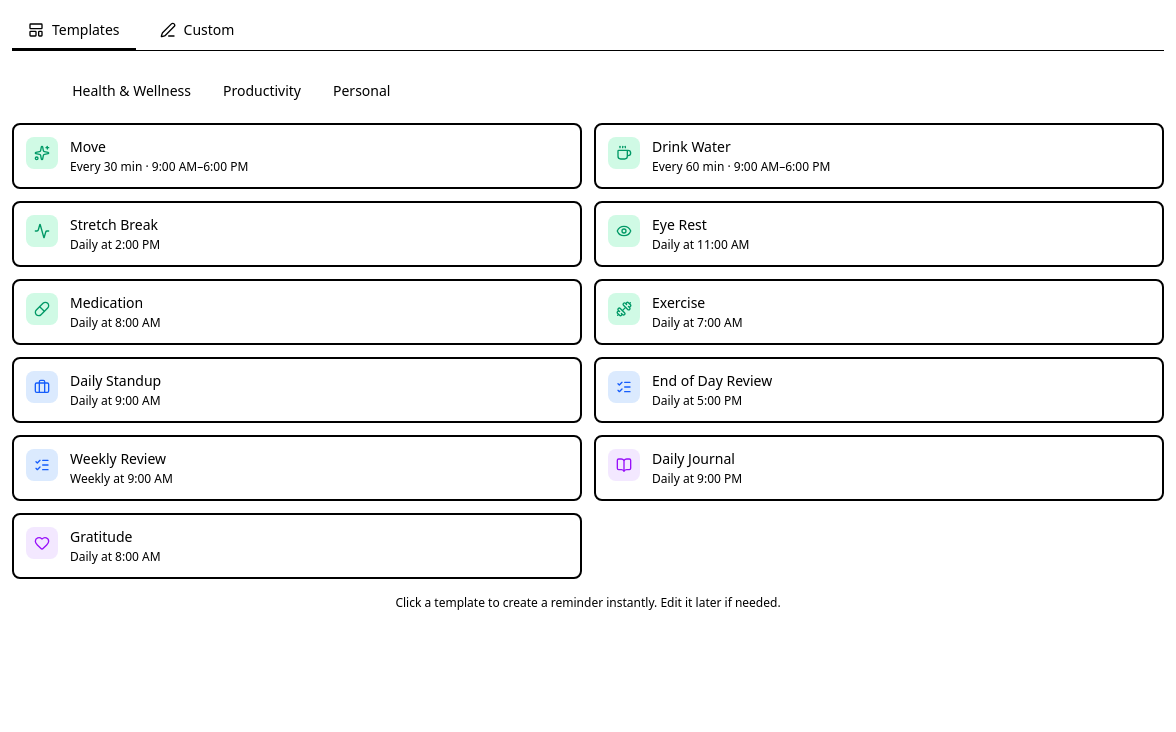
Test case: AddReminderForm › renders the shared form body when the Custom tab is selected
What coordinates should you click on to do the following:
click the button "Custom"
I would click on:
 (197, 31)
Its box is top-left (144, 12), bottom-right (250, 50).
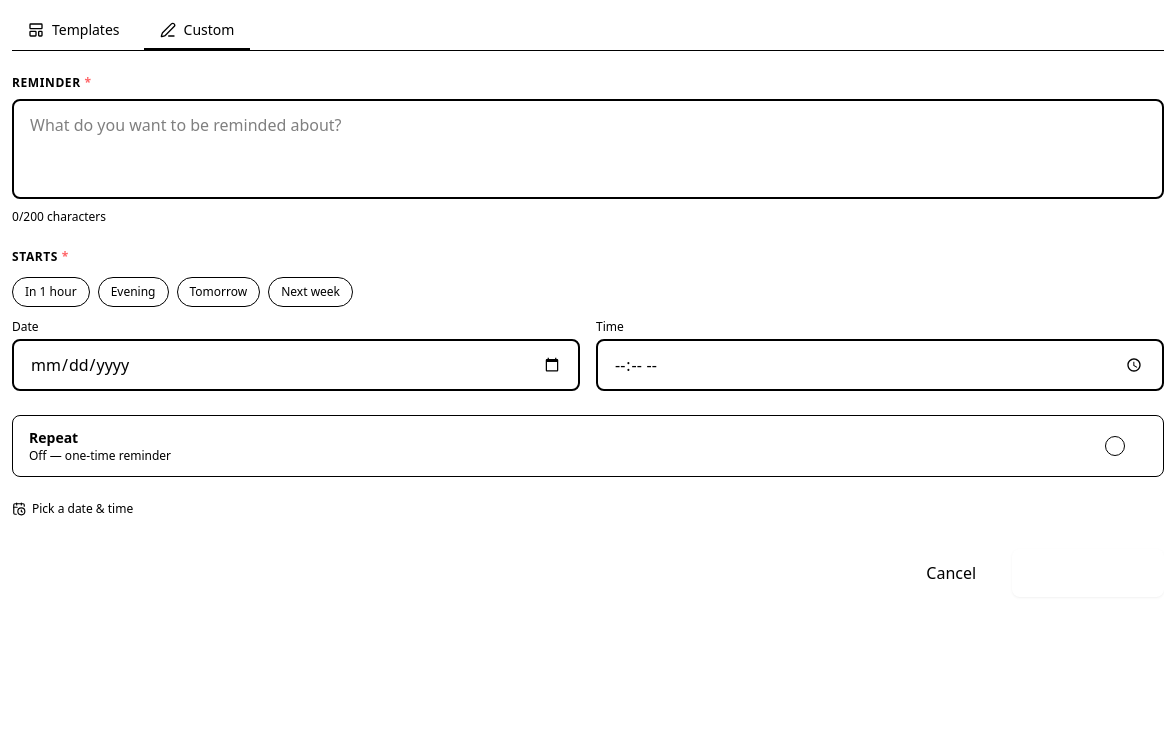
expect the text "Starts" is shown: met, box top-left (12, 248), bottom-right (62, 265)
